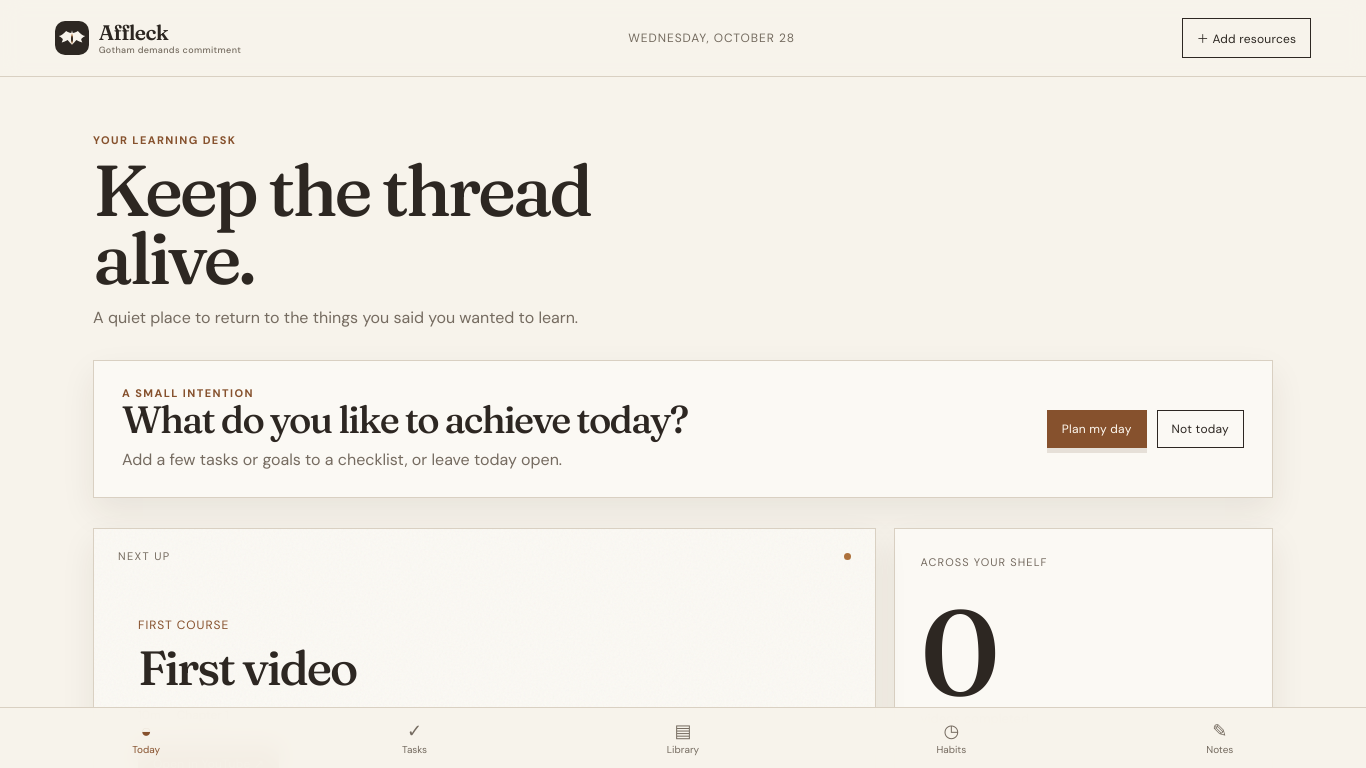
group containers › removes a group without deleting its members
Click the button "▤ Library": (683,738) [549,717,817,759]
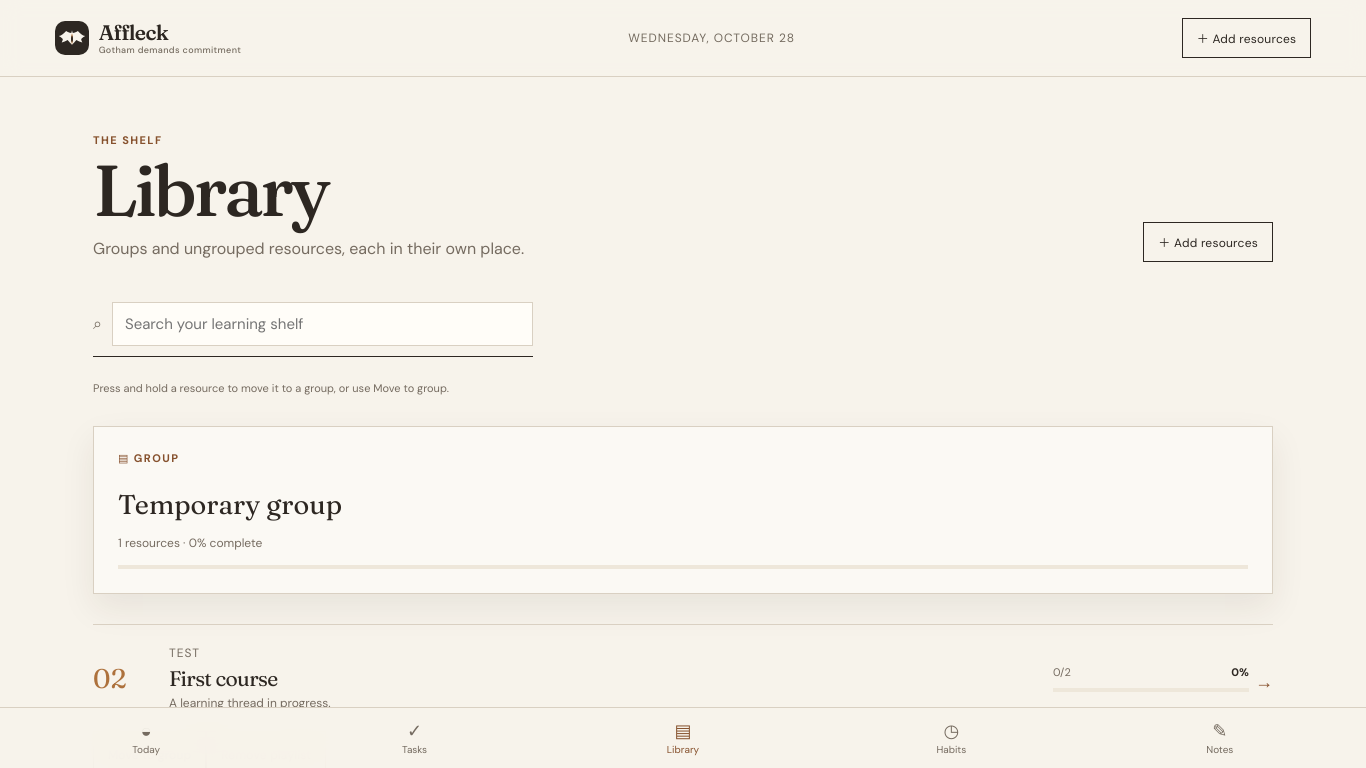
Click the button with aria-label "Open group Temporary group": (683,510) [93,426,1273,594]
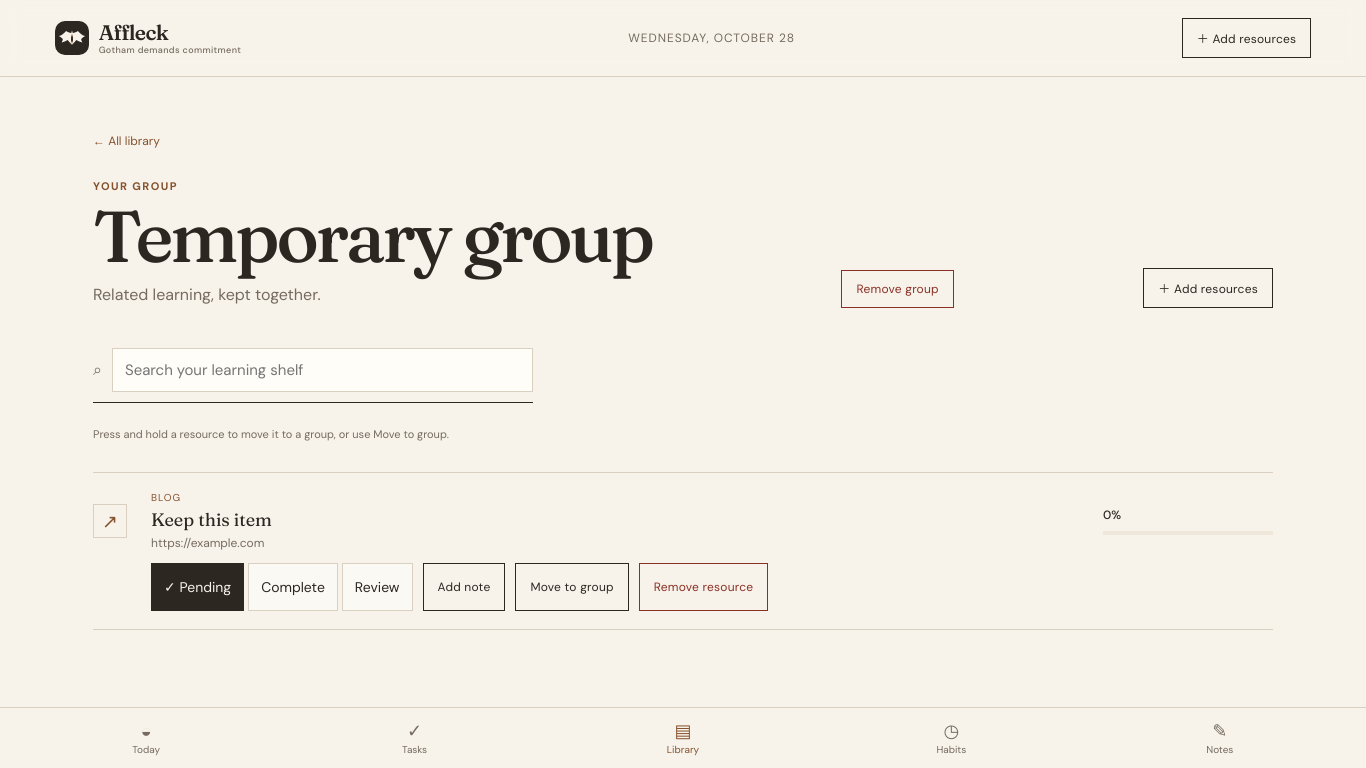
Click the button "Remove group": (898,289) [841,270,954,308]
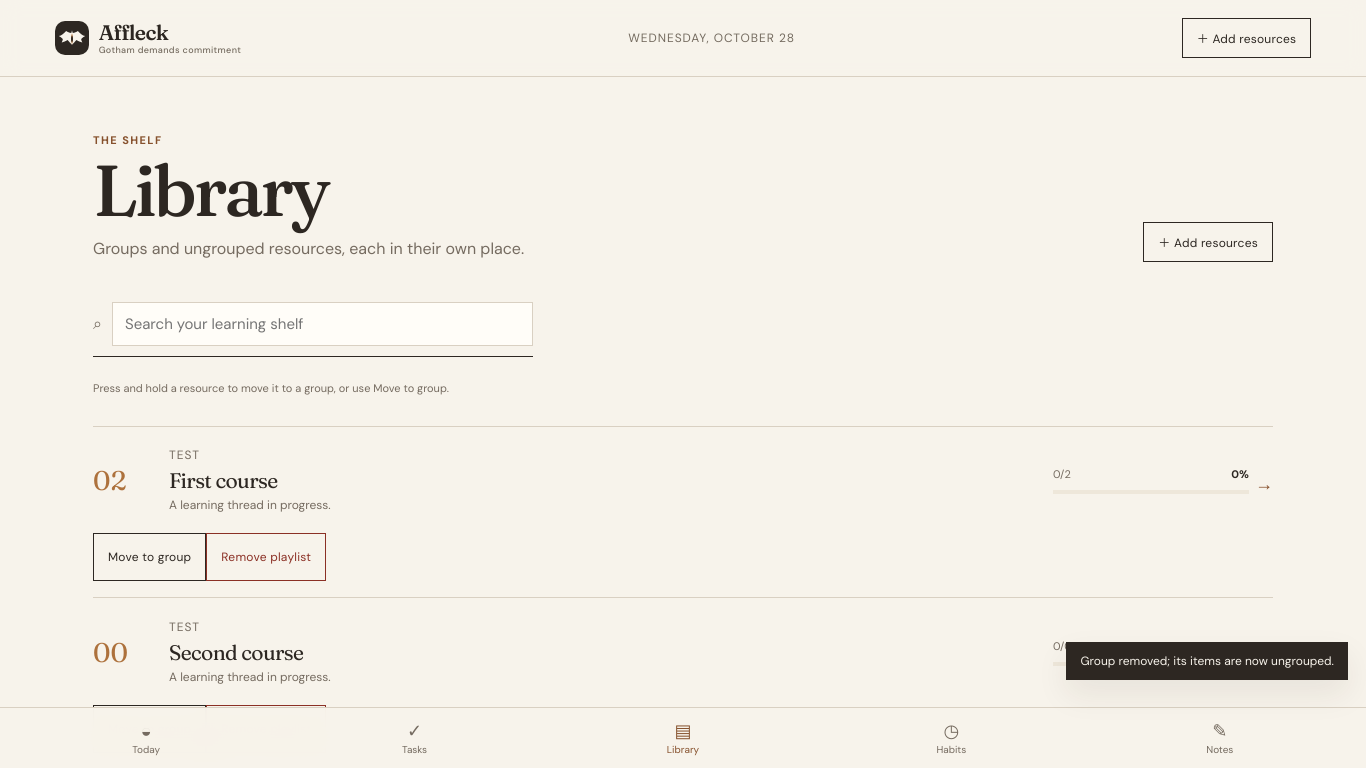
Check: the text "Group removed; its items are now ungrouped." is shown, box [1066,642,1348,680]
